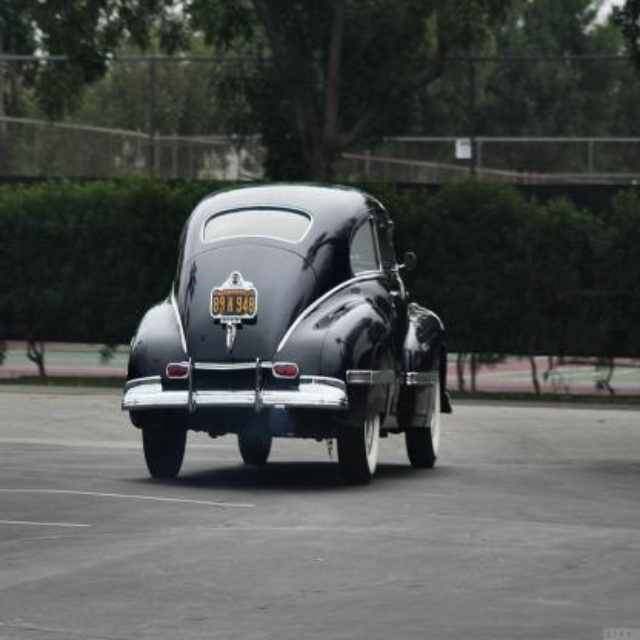Car: (122, 182, 451, 478)
